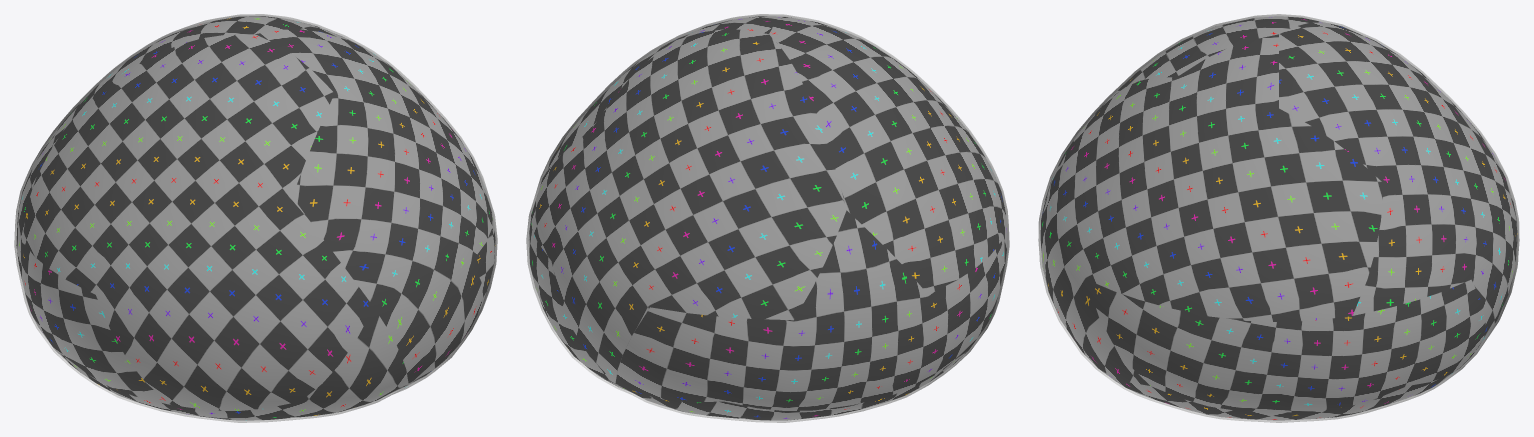
The model's file is Slime.glb.
The picture shows the model from 3 angles, left to right: view 1: azimuth 30°, elevation 25°; view 2: azimuth 150°, elevation 25°; view 3: azimuth 270°, elevation 25°; orthographic projection.
Parts seen in each view (by area): view 1: Model; view 2: Model; view 3: Model.
Part boxes in pixels (x1=…): Model: x1=14, y1=14, x2=497, y2=422; Model: x1=526, y1=14, x2=1009, y2=422; Model: x1=1038, y1=14, x2=1519, y2=422.
Bounding box in the file's own units: 0.712 × 0.5477 × 0.7075.
Materials: 2 (1 with a texture image).
